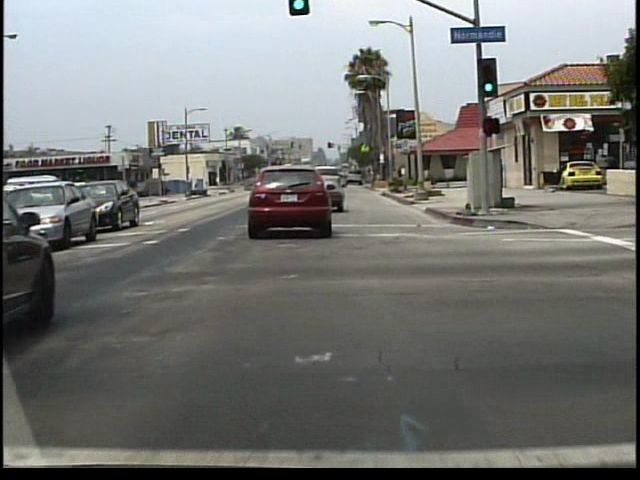person: (603, 150, 620, 197)
